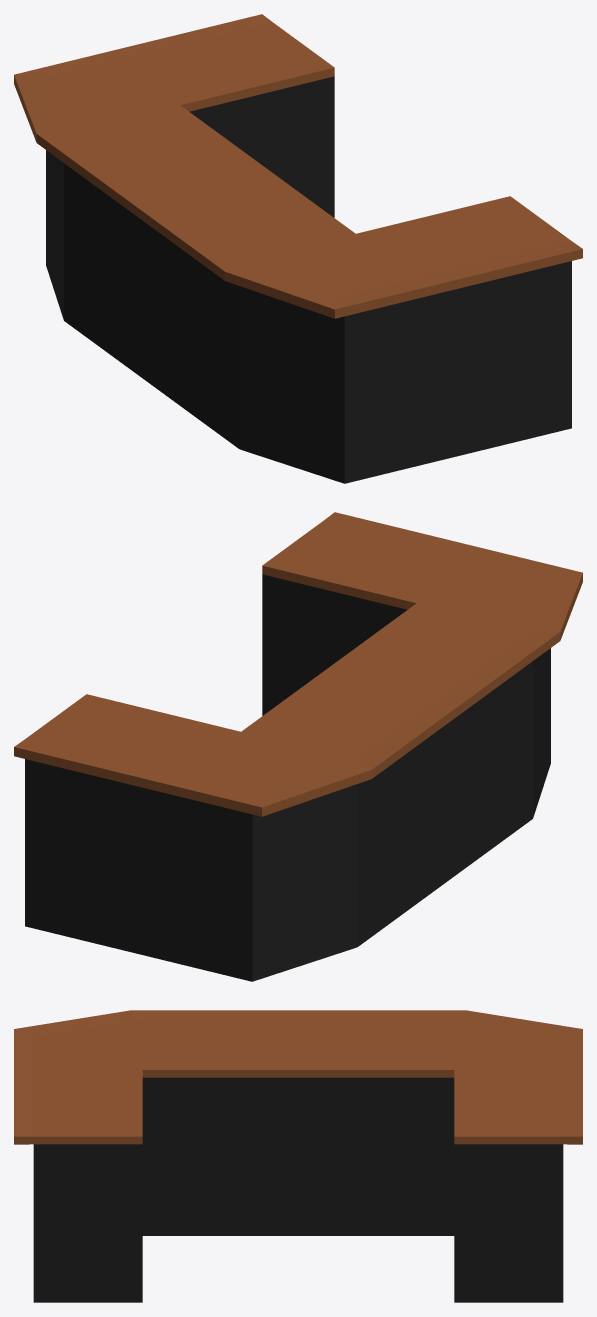
Rendered from BarPiece.fbx.
3 views of the same model, one above another, from view 1: azimuth 30°, elevation 25°; view 2: azimuth 150°, elevation 25°; view 3: azimuth 270°, elevation 25° (orthographic). The views are drawn at different scales.
Parts seen in each view (by area): view 1: Plane; view 2: Plane; view 3: Plane.
Boxes of the visible parts, <box> form: Plane: <box>14,14,582,483</box>; Plane: <box>14,512,582,981</box>; Plane: <box>14,1010,582,1302</box>.
Bounding box in the file's own units: 246 × 151 × 468.
